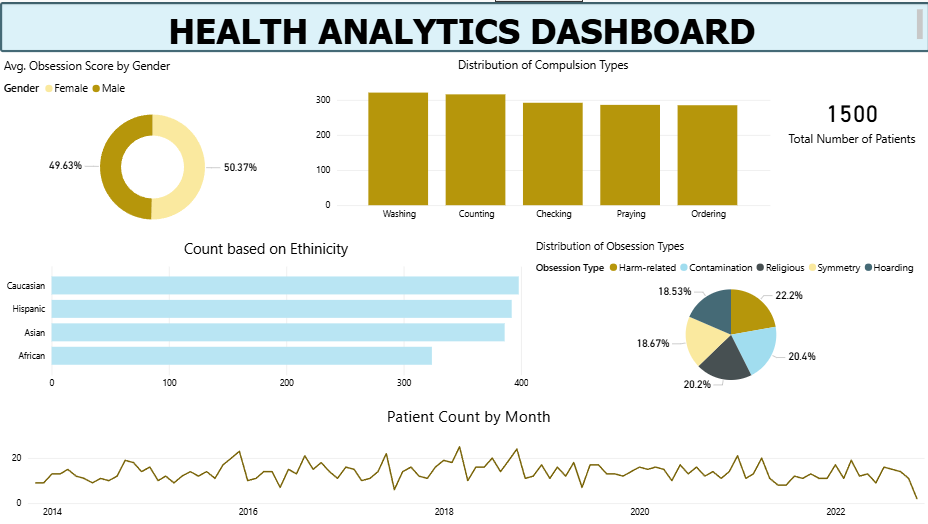

What the dashboard file says about the page in this screenshot:
{"tool":"powerbi","page":{"name":"Page 1","canvas":[1280,720],"ordinal":0},"visuals":[{"type":"textbox","box":[0,0,1280,68.8],"z":0},{"type":"lineChart","title":"Patient Count by Month","fields":{"Y":["Sum(diagnosis_Mom.patient_count)"],"Category":["diagnosis_Mom.month"]},"box":[11,554.7,1269,165.2],"z":1000},{"type":"donutChart","title":"Avg. Obsession Score by Gender","fields":{"Category":["gender.Gender"],"Y":["Sum(gender.avg_obs_score)"]},"box":[0,77.1,419.8,247.7],"z":2000},{"type":"clusteredBarChart","title":"Count based on Ethinicity","fields":{"Category":["Ethnicity.Ethnicity"],"Y":["Sum(Ethnicity.Patient_Count)"]},"box":[0,324.8,732.2,217.5],"z":3000},{"type":"columnChart","title":"Distribution of Compulsion Types","fields":{"Category":["compulsion type.Compulsion Type"],"Y":["Sum(compulsion type.patient_count)"]},"box":[429.4,75.7,635.9,234],"z":5000},{"type":"pieChart","title":"Distribution of Obsession Types","fields":{"Category":["Diagnosis.Obsession Type"],"Y":["Sum(Diagnosis.patient_count)"]},"box":[732.2,324.8,547.8,217.5],"z":6000},{"type":"card","fields":{"Values":["Sum(diagnosis_Mom.patient_count)"]},"box":[1065.3,68.8,214.7,185.8],"z":6001}]}

Visuals, with their boxes in screenshot pixels (x1, y1, x2, y2), scaled from the page's 1280x720 canvas onto the 928x524 screenshot:
textbox: (x1=0, y1=0, x2=927, y2=50)
"Patient Count by Month" lineChart: (x1=8, y1=404, x2=927, y2=523)
"Avg. Obsession Score by Gender" donutChart: (x1=0, y1=56, x2=304, y2=236)
"Count based on Ethinicity" clusteredBarChart: (x1=0, y1=236, x2=531, y2=395)
"Distribution of Compulsion Types" columnChart: (x1=311, y1=55, x2=772, y2=225)
"Distribution of Obsession Types" pieChart: (x1=531, y1=236, x2=927, y2=395)
card - Sum(diagnosis_Mom.patient_count): (x1=772, y1=50, x2=927, y2=185)
